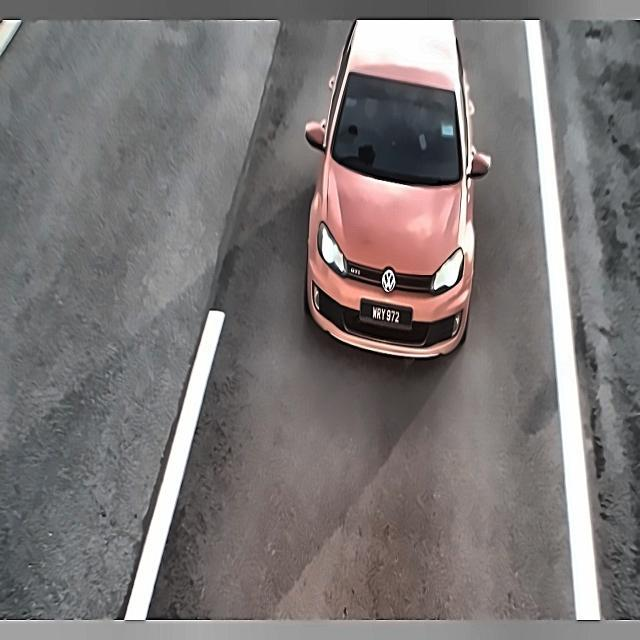car: (359, 296, 414, 337)
